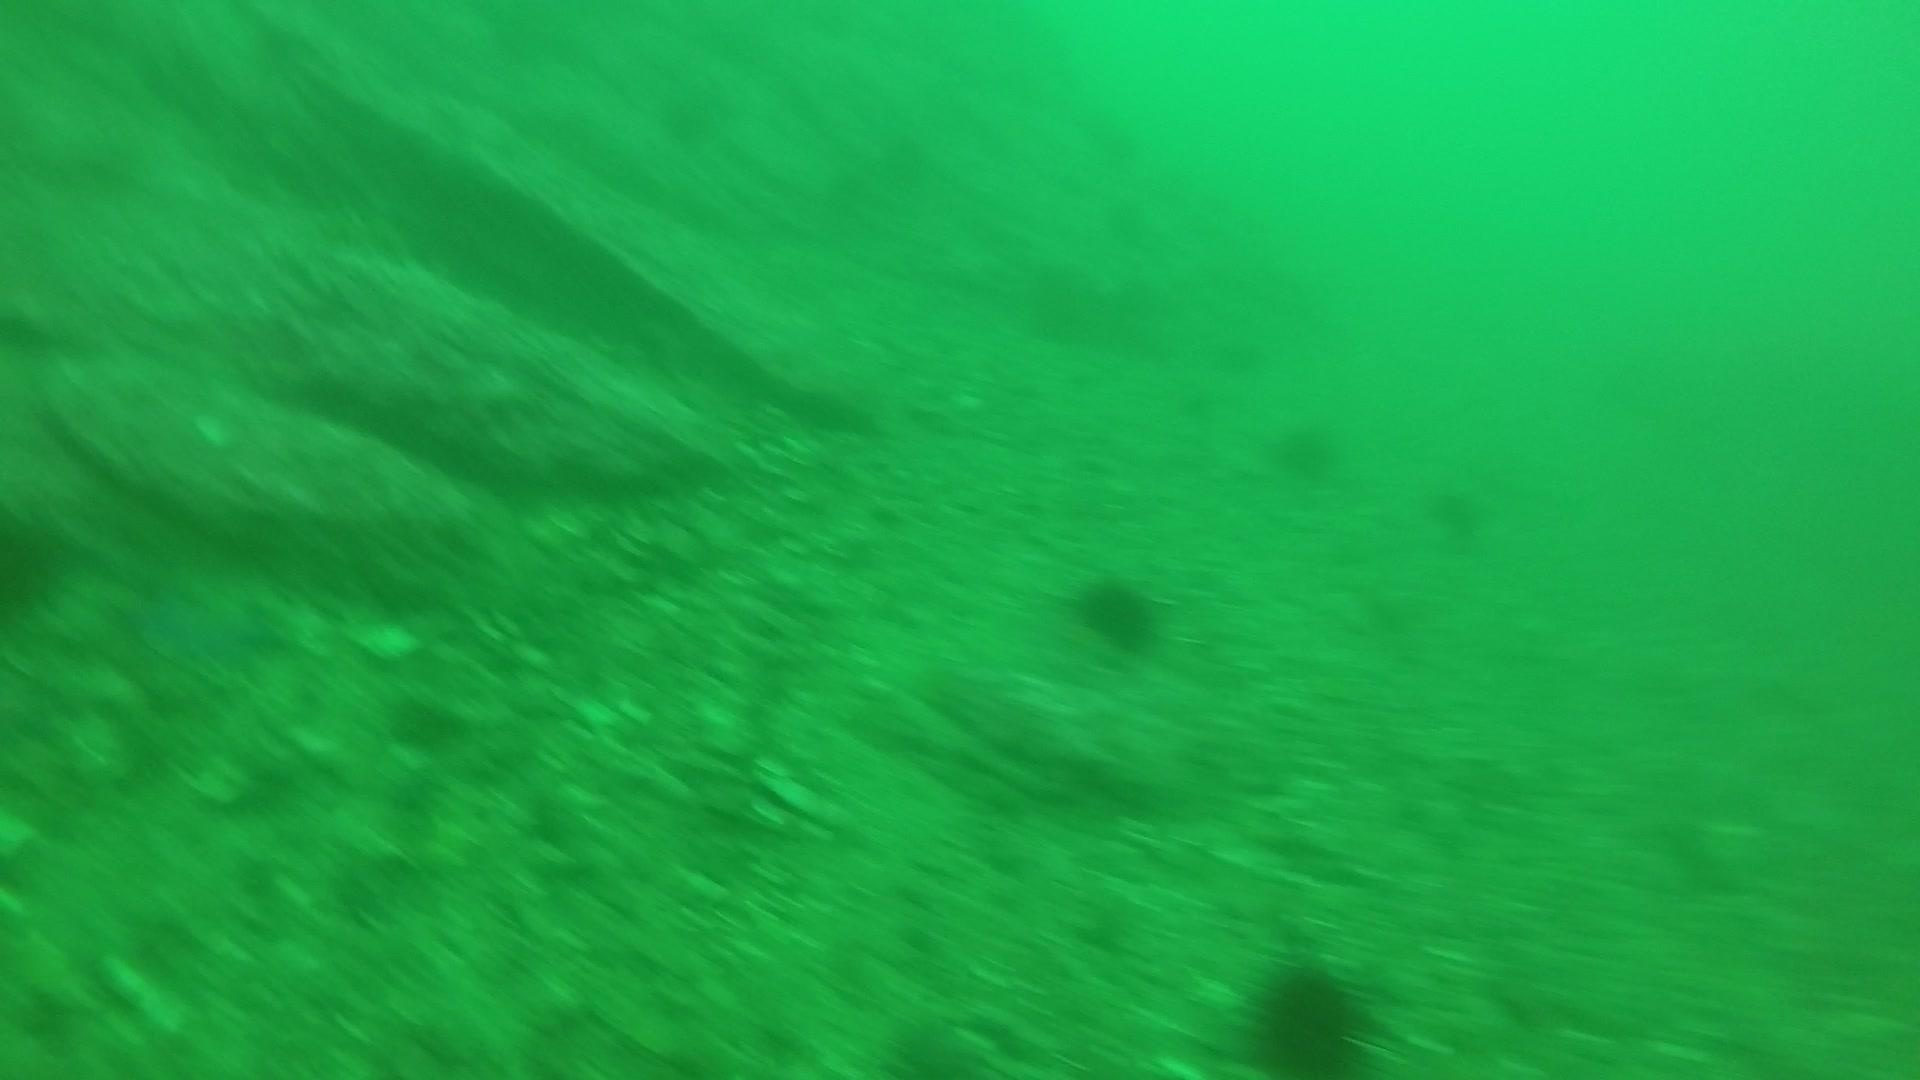echinus: (1237, 953, 1378, 1076), (0, 498, 75, 629), (1067, 566, 1167, 655), (1265, 411, 1345, 484), (1420, 475, 1493, 545)
starfish: (135, 564, 290, 676)
